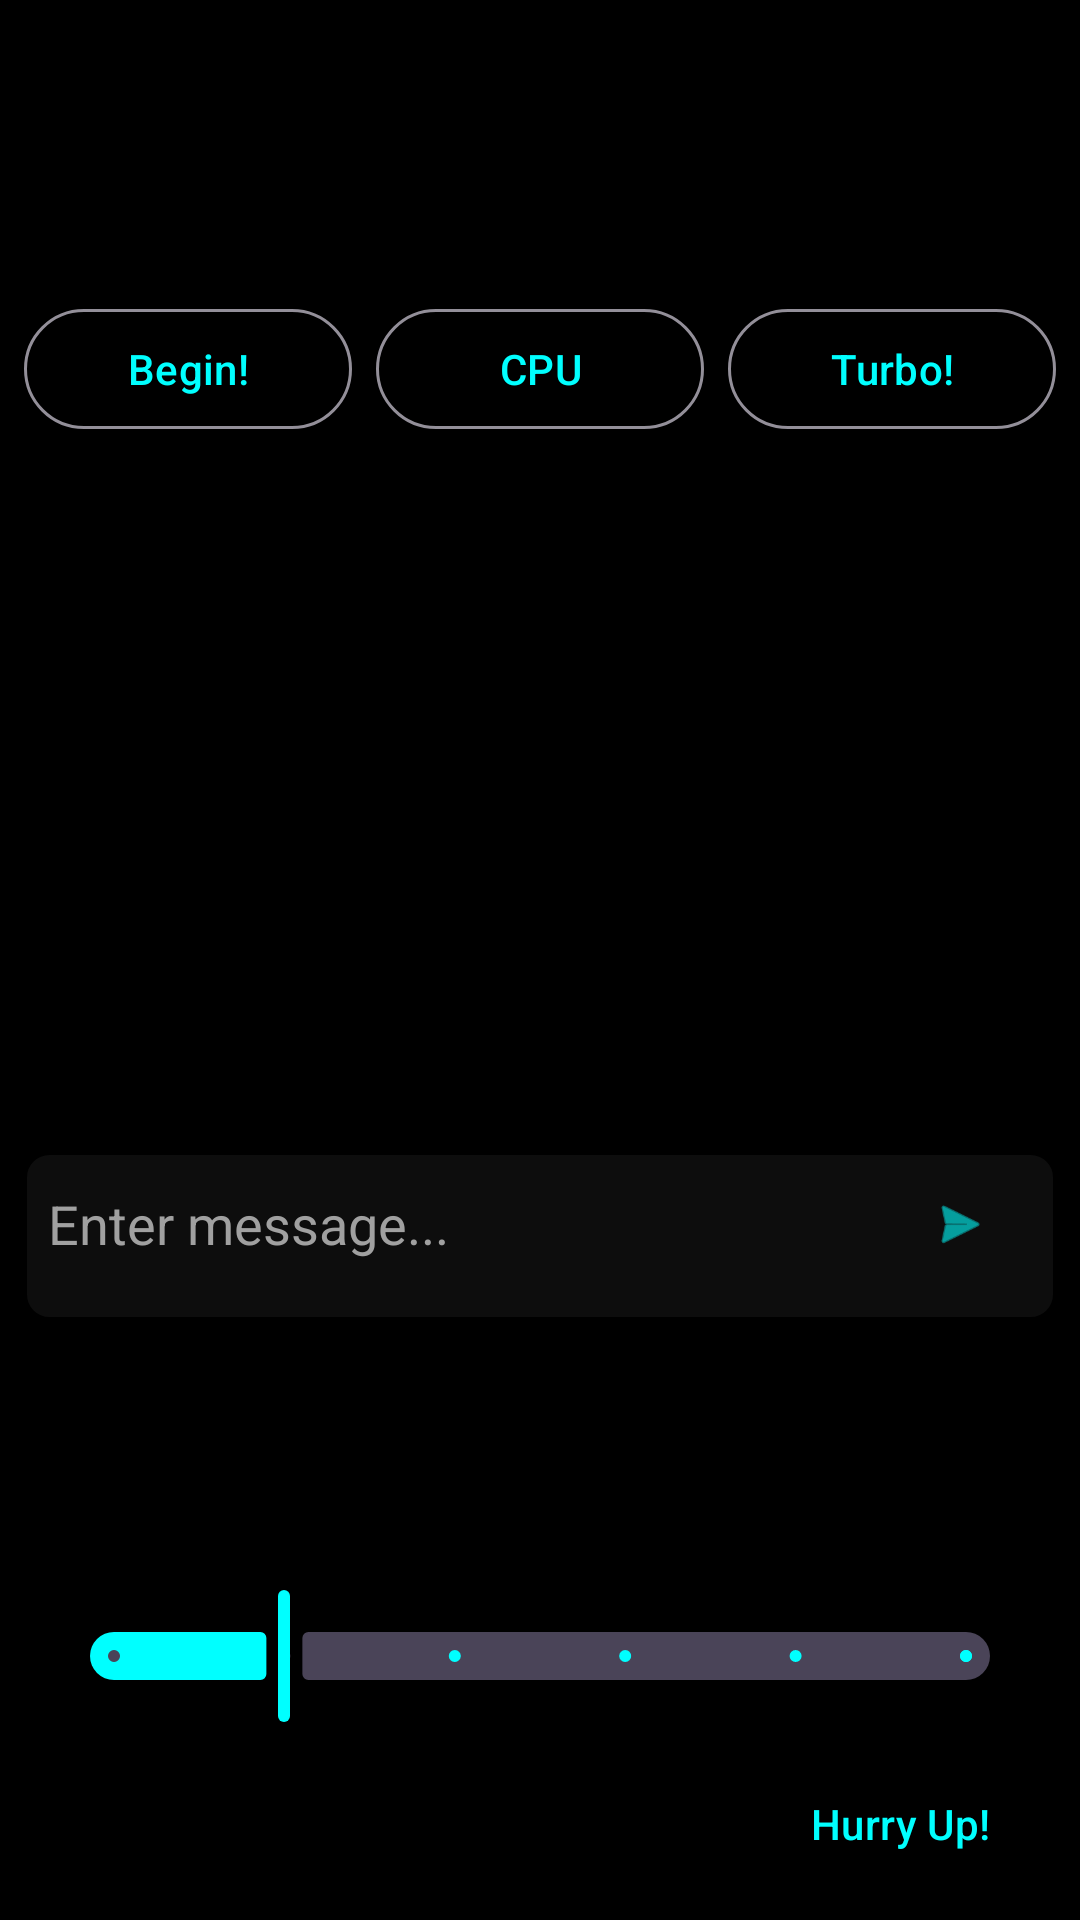

Named icons in this screenshot (1080*1920) and their bounding boxes, [x1,y1,x2,y2]:
send: [941,1205,980,1243]
